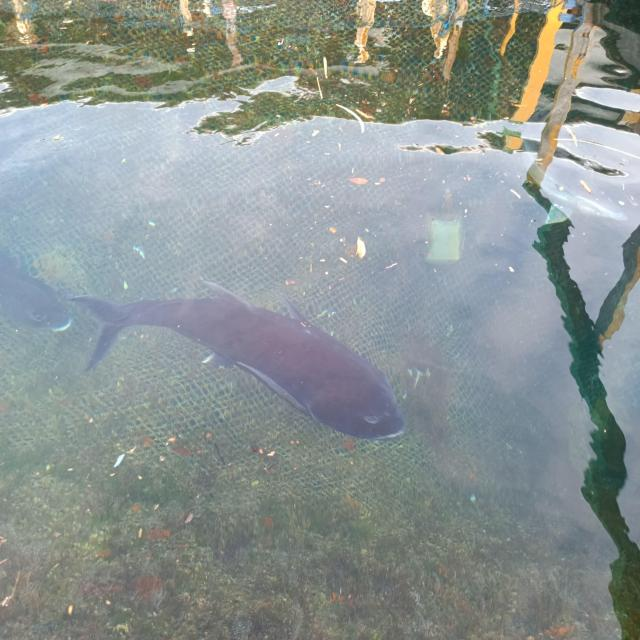ikan: (65, 281, 412, 462)
